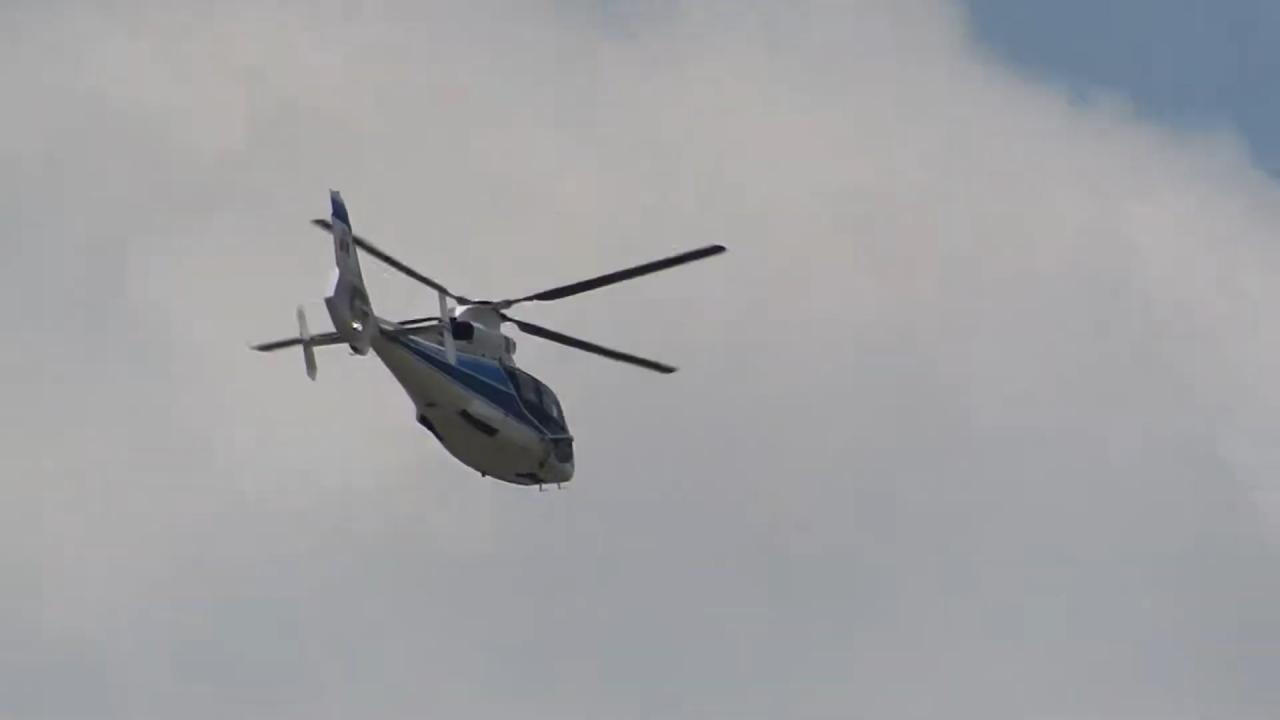Helicopter: (243, 176, 743, 498)
